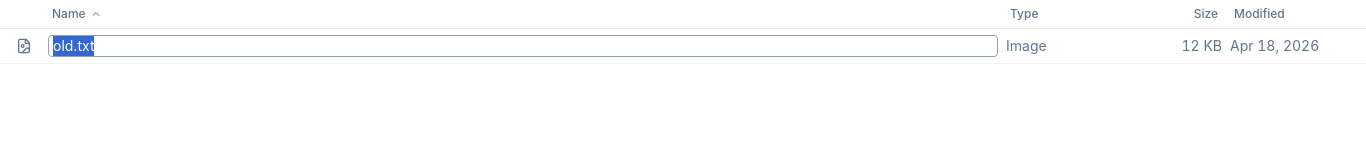
inline rename UI › during a pending rename the cell shows the new requested name (not the old one)
Replace the text in the field with "new.txt". click: (523,46)
box: [48, 35, 998, 57]
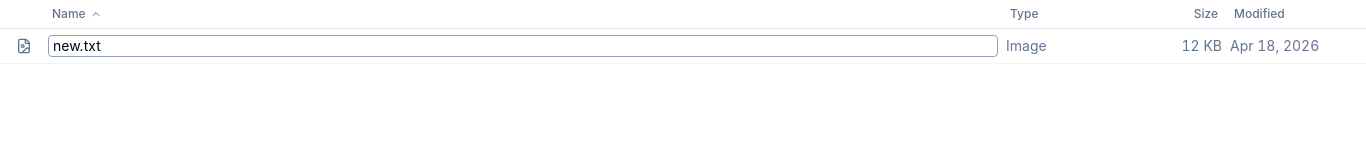
Press Enter in the field, box [48, 35, 998, 57]
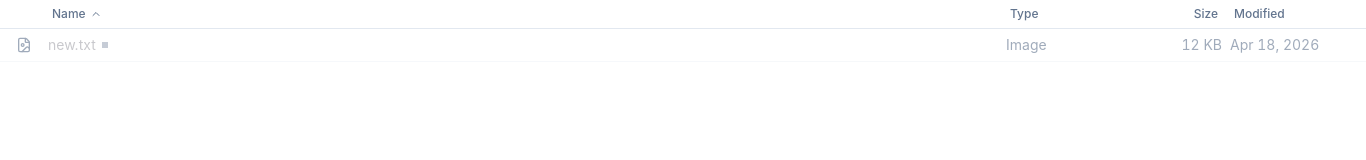
Expected: the text "old.txt" is not shown
Expected: the text "new.txt" is shown, [48, 35, 96, 55]
